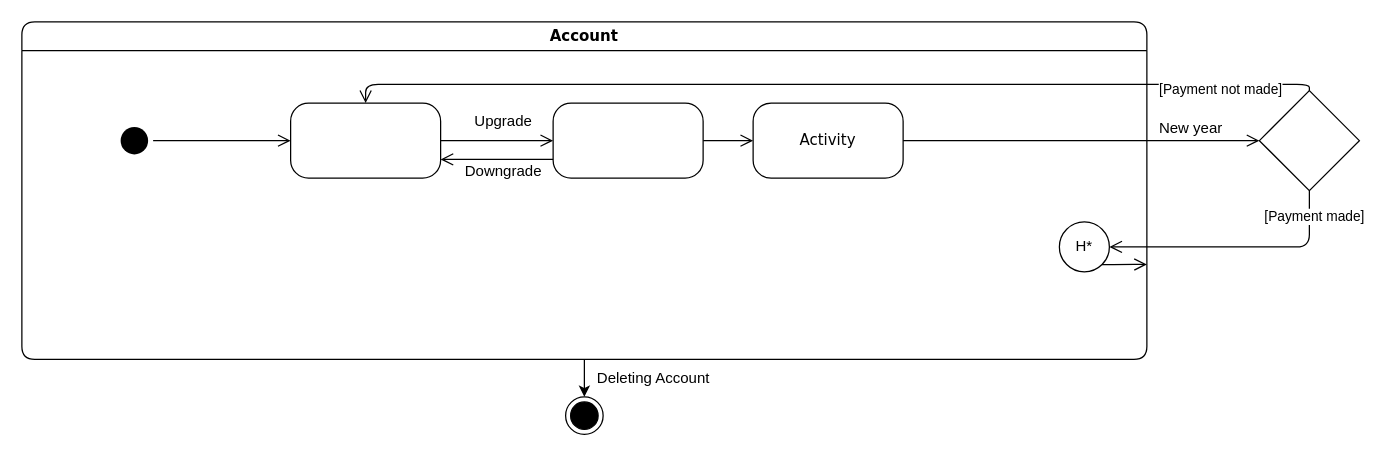
Image size: 1385x456. Some labels were removed from this diagram. Here are the shapes that lost their labels. From the top down, the centre of each, then its label:
the point at 365,140: Free Account
the point at 627,140: Paid Account
